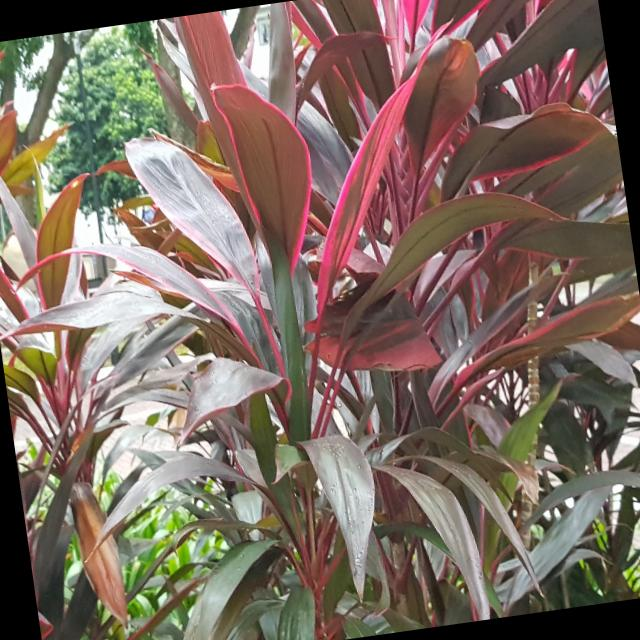Ti: (20, 0, 581, 640)
